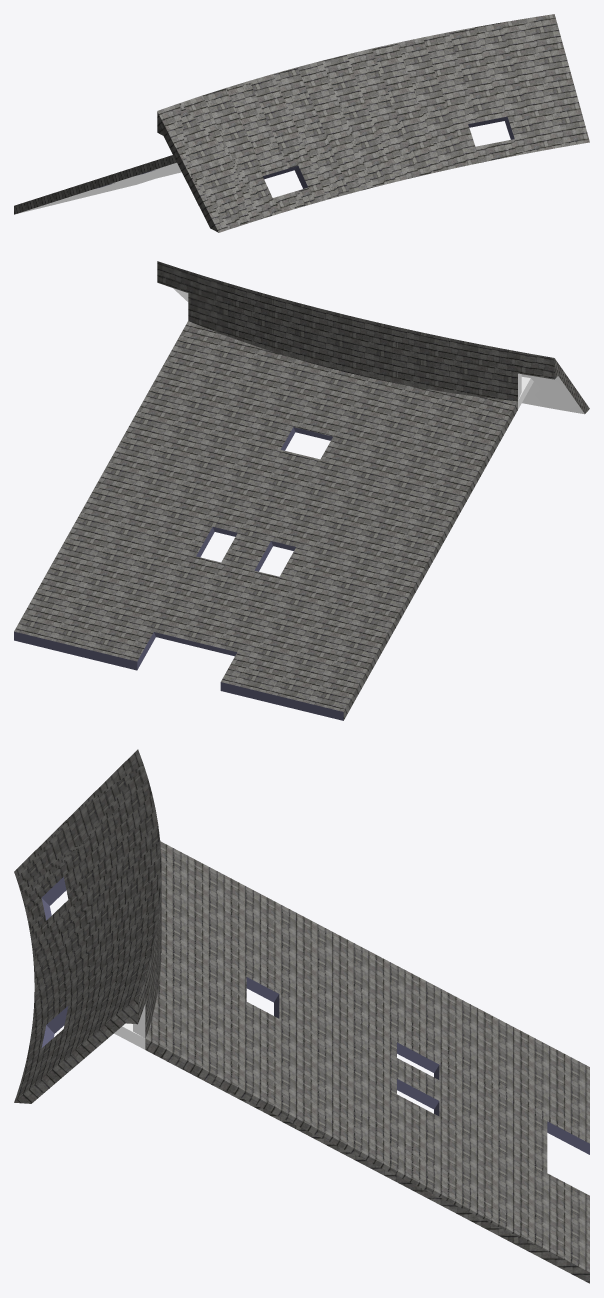
3 views of the same model, one above another, from view 1: azimuth 30°, elevation 25°; view 2: azimuth 150°, elevation 25°; view 3: azimuth 270°, elevation 25° (orthographic). The views are drawn at different scales.
Visible parts, largest first — view 1: SKP_03_dak_3_D3G (×3); view 2: SKP_03_dak_3_D3G (×3); view 3: SKP_03_dak_3_D3G (×2).
Boxes of the visible parts, x1,y1,x2,y2 form: SKP_03_dak_3_D3G (×3): (14,14,589,232); SKP_03_dak_3_D3G (×3): (14,261,589,720); SKP_03_dak_3_D3G (×2): (14,749,589,1283).
Size of the model in its own units: 5.51 by 5.42 by 3.22.
6 materials, 1 textured.
